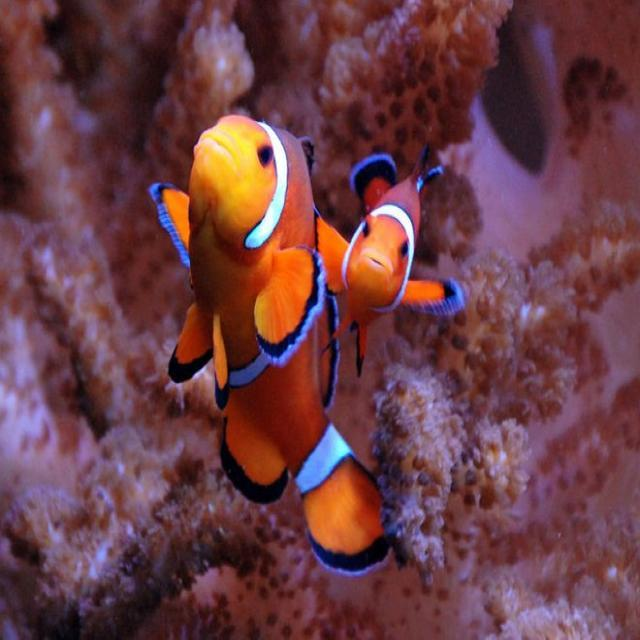ClownFish: (150, 108, 394, 572), (313, 137, 470, 380)
